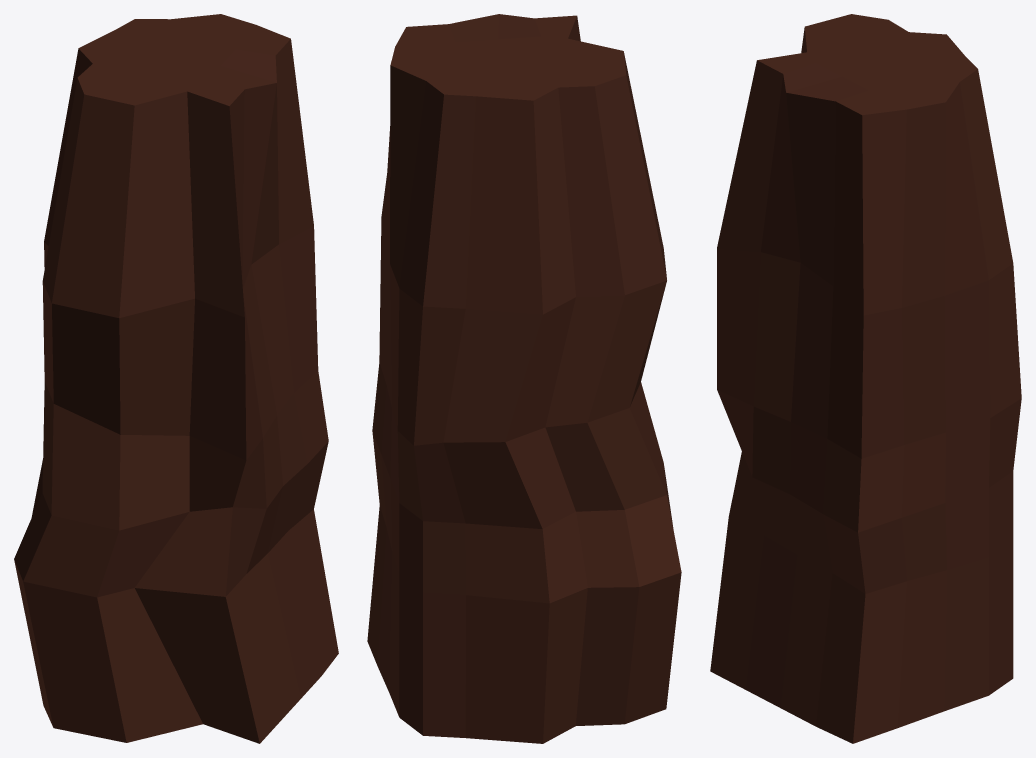
Rendered from sc_FeiTu_mesh_shan11.FBX.
The picture shows the model from 3 angles, left to right: view 1: azimuth 30°, elevation 25°; view 2: azimuth 150°, elevation 25°; view 3: azimuth 270°, elevation 25°; orthographic projection. The views are drawn at different scales.
Parts seen in each view (by area): view 1: mesh_shan11; view 2: mesh_shan11; view 3: mesh_shan11.
Part boxes in pixels (box(x1,y1,x2,y2)): mesh_shan11: box(14, 14, 338, 743); mesh_shan11: box(367, 14, 681, 743); mesh_shan11: box(710, 14, 1021, 743).
Bounding box in the file's own units: 2341 × 4440 × 2061.
